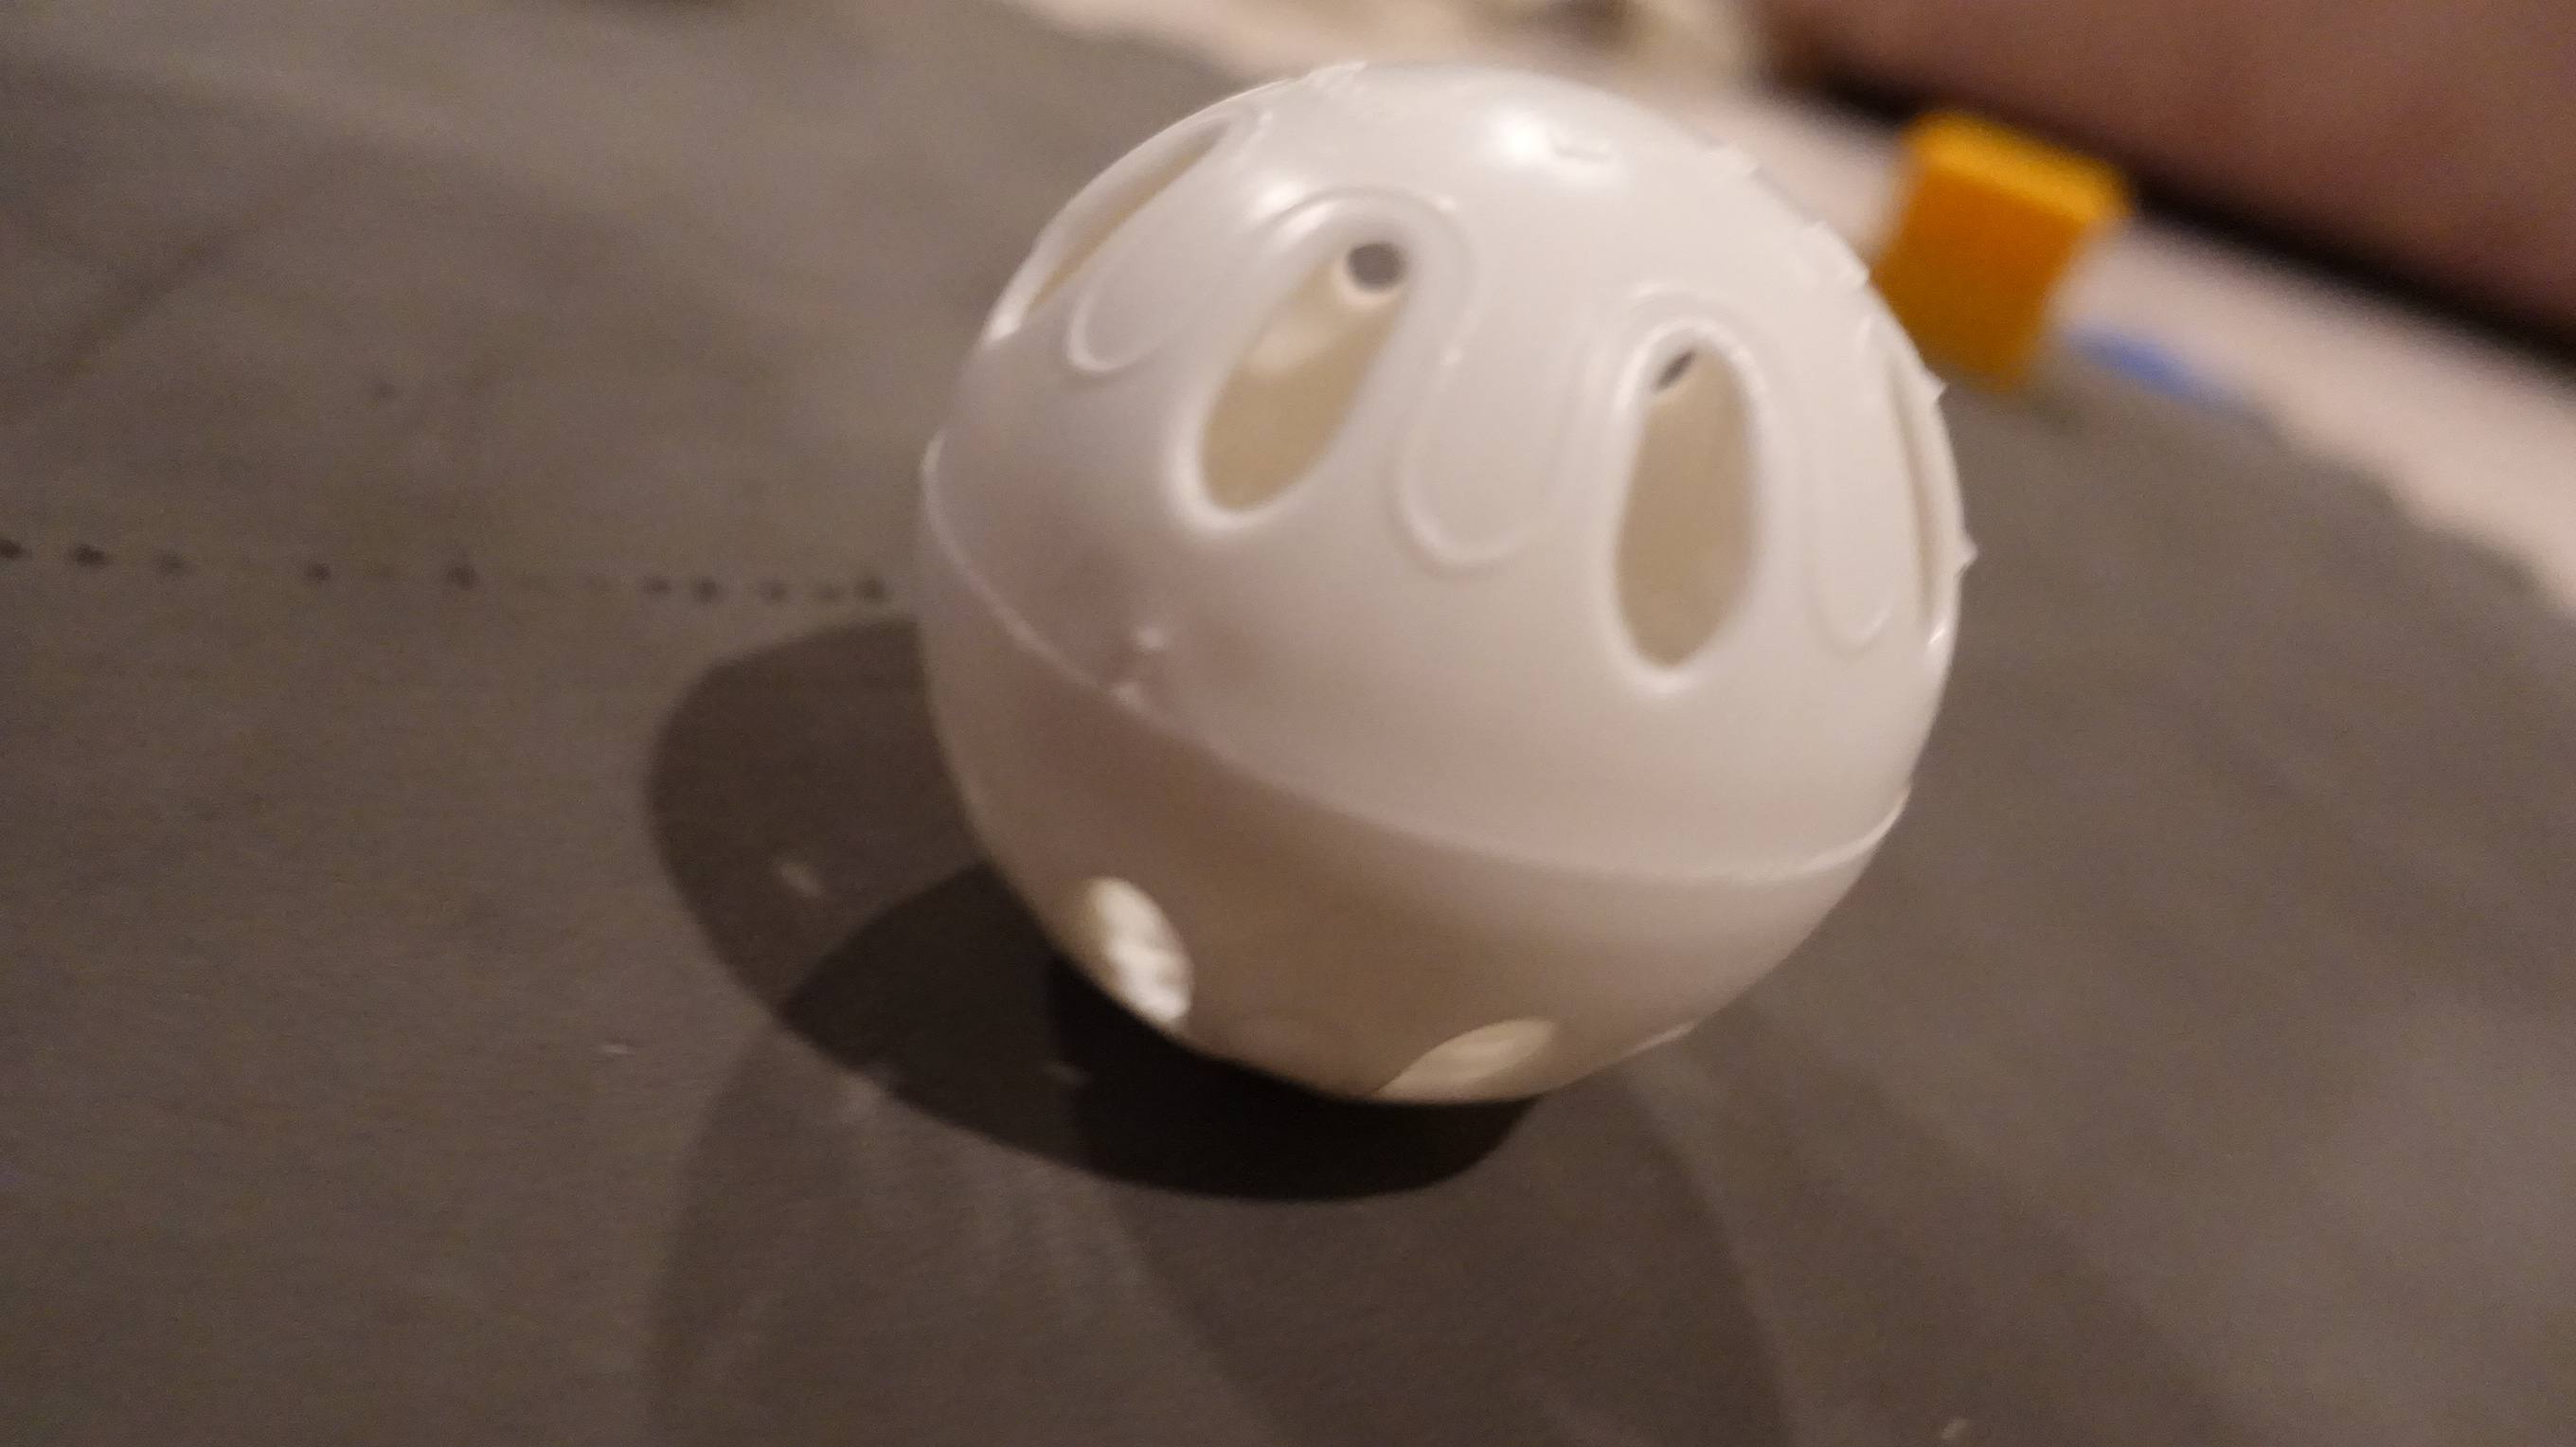gold: (1849, 96, 2128, 391)
silver: (911, 55, 1974, 1118)
